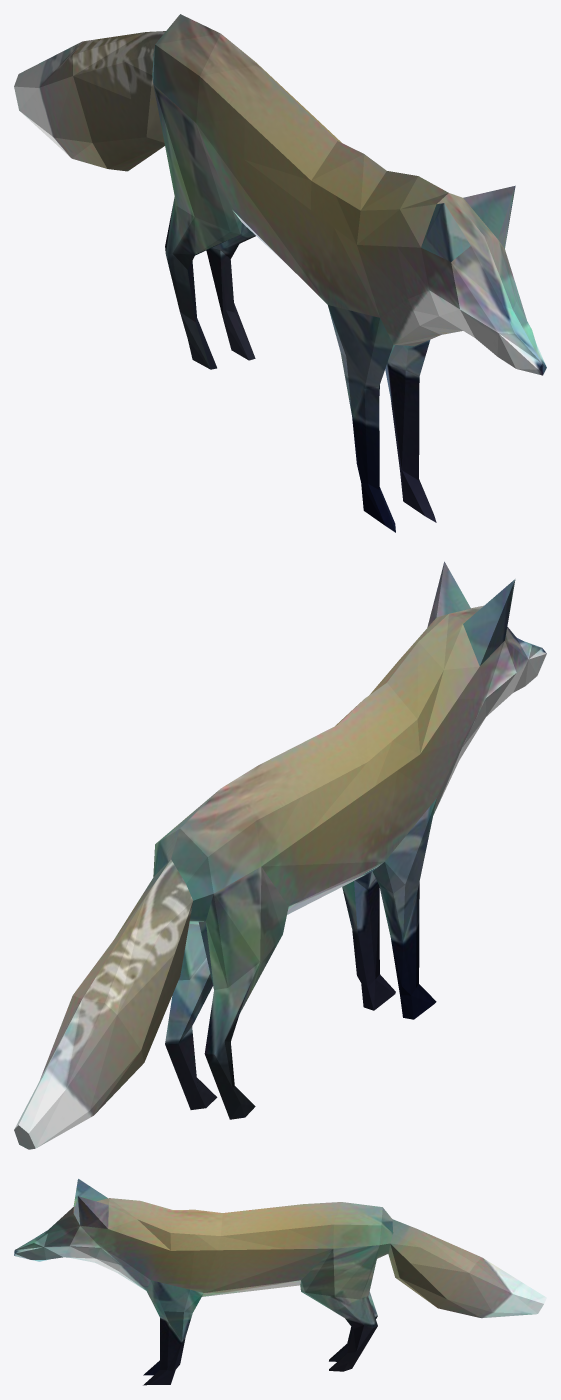
The picture shows the model from 3 angles, top to bottom: view 1: azimuth 30°, elevation 25°; view 2: azimuth 150°, elevation 25°; view 3: azimuth 270°, elevation 25°; orthographic projection. The views are drawn at different scales.
Parts seen in each view (by area): view 1: fox1; view 2: fox1; view 3: fox1.
Boxes of the visible parts, bbox=[...] form: fox1: bbox=[14, 14, 546, 532]; fox1: bbox=[14, 561, 546, 1149]; fox1: bbox=[14, 1178, 546, 1385].
Size of the model in its own units: 6.91 by 35.28 by 88.2.
1 material, 1 textured.
